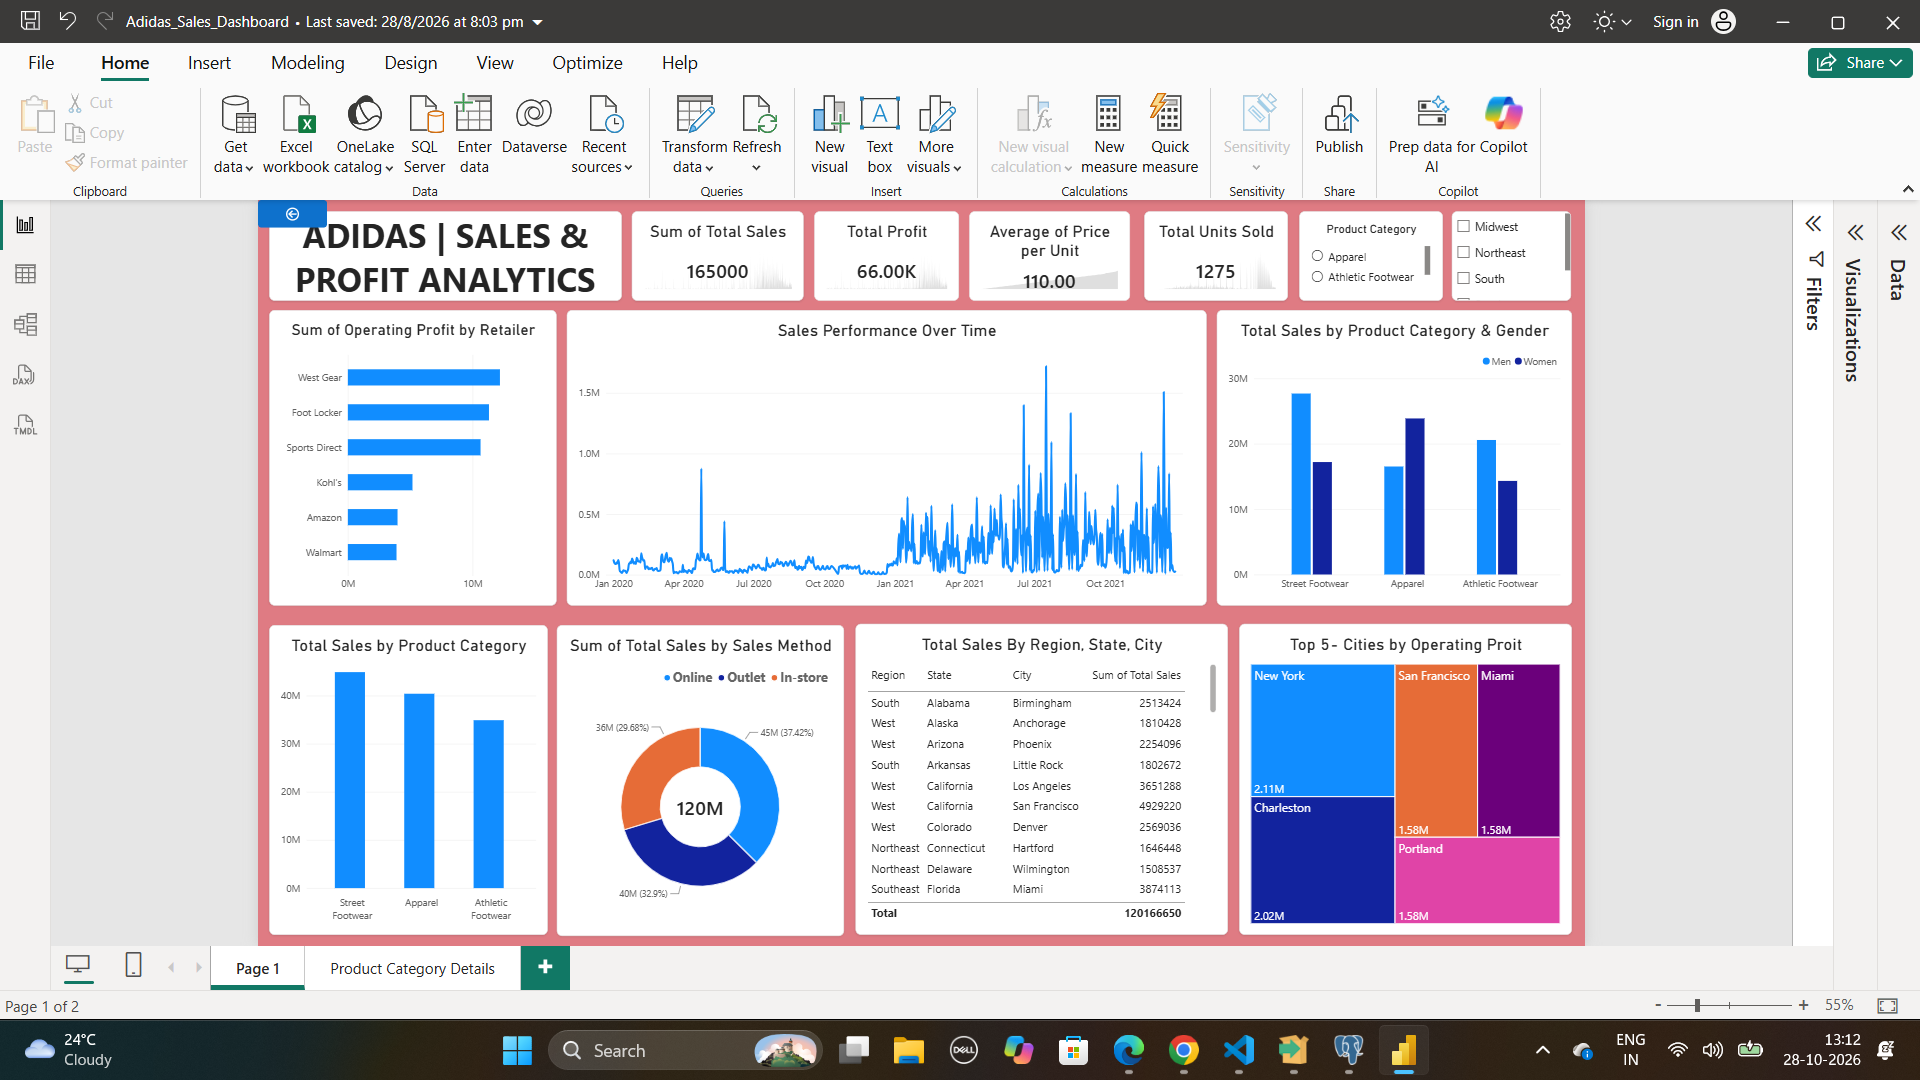

Layout of this report page (visuals, bound fields, positions):
{"tool":"powerbi","page":{"name":"Page 1","canvas":[1920,1080],"ordinal":0},"visuals":[{"type":"clusteredBarChart","fields":{"Category":["Sales_details.Retailer"],"Y":["Sum(Sales_details.Operating Profit)"]},"box":[16.5,158.5,415.8,428.1],"z":0},{"type":"lineChart","title":"Sales Performance Over Time","fields":{"Y":["Sum(Sales_details.Total Sales)"],"Category":["Sales_details.Invoice Date.Variation.Date Hierarchy.Year","Sales_details.Invoice Date.Variation.Date Hierarchy.Quarter","Sales_details.Invoice Date.Variation.Date Hierarchy.Month","Sales_details.Invoice Date.Variation.Date Hierarchy.Day"]},"box":[446.7,158.5,926.2,428.1],"z":1000},{"type":"clusteredColumnChart","title":"Total Sales by Product Category","fields":{"Category":["Sales_details.Product Category"],"Y":["Sum(Sales_details.Total Sales)"]},"box":[16.5,615.4,403.4,448.7],"z":2000},{"type":"clusteredColumnChart","title":"Total Sales by Product Category & Gender","fields":{"Category":["Sales_details.Product Category"],"Y":["Sum(Sales_details.Total Sales)"],"Series":["Sales_details.Gender Type"]},"box":[1387.3,158.5,514.6,428.1],"z":3000},{"type":"donutChart","fields":{"Category":["Sales_details.Sales Method"],"Y":["Sum(Sales_details.Total Sales)"]},"box":[432.2,615.4,415.8,450.8],"z":4000},{"type":"tableEx","title":"Total Sales By Region, State, City","fields":{"Values":["Sales_details.Region","Sales_details.State","Sales_details.City","Sum(Sales_details.Total Sales)"]},"box":[864.5,613.4,539.3,450.8],"z":5000},{"type":"treemap","title":"Top 5- Cities by Operating Proit","fields":{"Group":["Sales_details.City"],"Values":["Sum(Sales_details.Operating Profit)"]},"box":[1420.2,613.4,481.6,450.8],"z":6000},{"type":"kpi","title":"Sum of Total Sales ","fields":{"Indicator":["Sum(Sales_details.Total Sales)"],"TrendLine":["Sales_details.Total Sales"]},"box":[541.3,16.5,249.1,129.7],"z":7000},{"type":"kpi","title":"Total Profit","fields":{"Indicator":["Sum(Sales_details.Operating Profit)"],"TrendLine":["Sales_details.Total Sales"]},"box":[804.8,16.5,209.9,129.7],"z":8000},{"type":"kpi","title":"Average of Price per Unit","fields":{"Indicator":["Avg(Sales_details.Price per Unit)"],"TrendLine":["Sales_details.Price per Unit"]},"box":[1029.2,16.5,232.6,129.7],"z":9000},{"type":"kpi","title":"Total Units Sold ","fields":{"Indicator":["Sum(Sales_details.Units Sold)"],"TrendLine":["Sales_details.Units Sold"]},"box":[1282.3,16.5,207.9,129.7],"z":10000},{"type":"textbox","box":[16.5,16.5,510.5,129.7],"z":11000},{"type":"slicer","fields":{"Values":["Sales_details.Region"]},"box":[1729,16.5,172.9,129.7],"z":12000},{"type":"listSlicer","fields":{"Values":["Sales_details.Product Category"]},"box":[1506.7,16.5,207.9,129.7],"z":13000},{"type":"actionButton","box":[0,0,100,40],"z":13001}]}

Visuals, with their boxes on the page's 1920x1080 design canvas (x1, y1, x2, y2). These are canvas units, not pixel positions in the 1920x1080 screenshot, which may show the page scaled, cropped or inside an application window:
clusteredBarChart - Sales_details.Retailer x Sum(Sales_details.Operating Profit): box=[16, 158, 432, 587]
"Sales Performance Over Time" lineChart: box=[447, 158, 1373, 587]
"Total Sales by Product Category" clusteredColumnChart: box=[16, 615, 420, 1064]
"Total Sales by Product Category & Gender" clusteredColumnChart: box=[1387, 158, 1902, 587]
donutChart - Sales_details.Sales Method x Sum(Sales_details.Total Sales): box=[432, 615, 848, 1066]
"Total Sales By Region, State, City" tableEx: box=[864, 613, 1404, 1064]
"Top 5- Cities by Operating Proit" treemap: box=[1420, 613, 1902, 1064]
"Sum of Total Sales " kpi: box=[541, 16, 790, 146]
"Total Profit" kpi: box=[805, 16, 1015, 146]
"Average of Price per Unit" kpi: box=[1029, 16, 1262, 146]
"Total Units Sold " kpi: box=[1282, 16, 1490, 146]
textbox: box=[16, 16, 527, 146]
slicer - Sales_details.Region: box=[1729, 16, 1902, 146]
listSlicer - Sales_details.Product Category: box=[1507, 16, 1715, 146]
actionButton: box=[0, 0, 100, 40]
